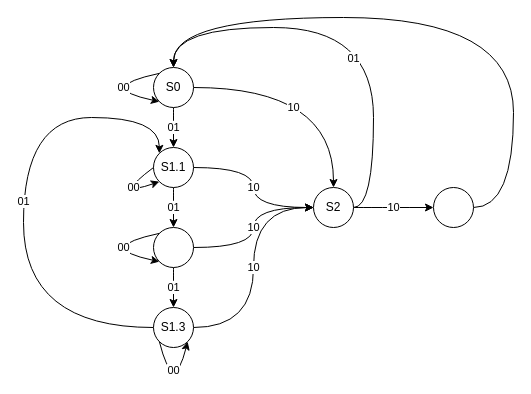
Some shapes in this 531 by 394 pixel diagram are drawn without their labels. The shapes that lost their labels are listed below. From the top down, each one's box as (x1, y1, x2, y2) in pixels, then its label:
(432, 186, 474, 228): S3
(152, 226, 194, 268): S1.2
